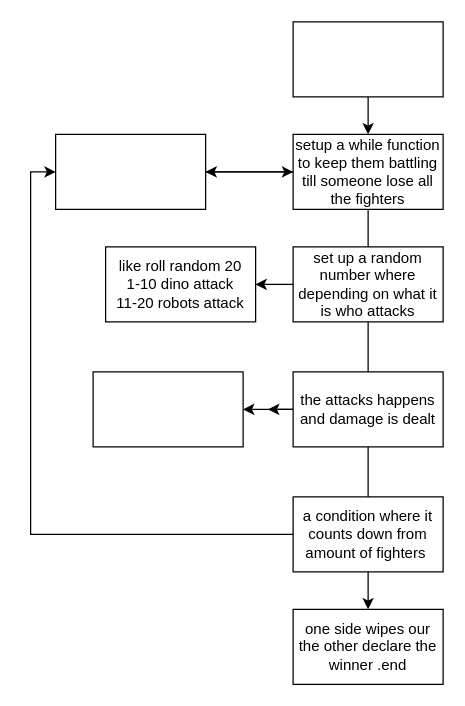
Image size: 465x706. Some labels were removed from this diagram. The shapes that lost their labels are listed below. From the top down, each one's centre as x and y in pixels, then its label:
At pixel 367 59: "start of the fight intro".
At pixel 130 171: "where amount of fighters is stored".
At pixel 167 409: "if statments depending on who hits who".
